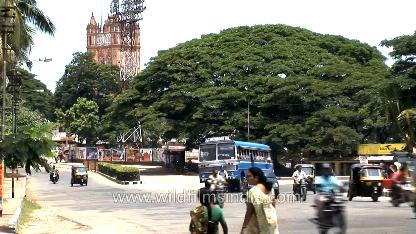auto-rikshaw: (346, 162, 388, 200), (68, 161, 90, 189)
bike: (312, 160, 350, 234), (290, 166, 310, 201), (48, 162, 61, 186)
bus: (195, 135, 279, 191)
